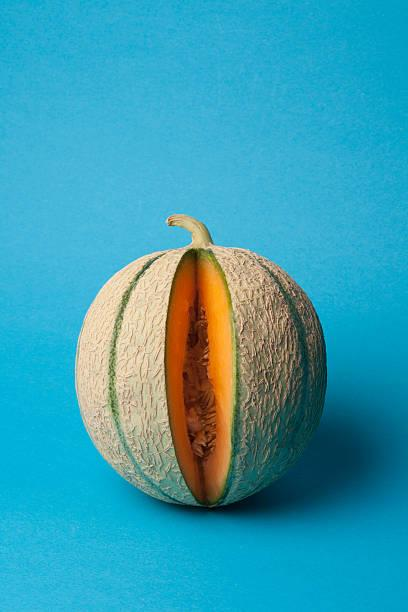Melon Ripe: (76, 215, 326, 507)
